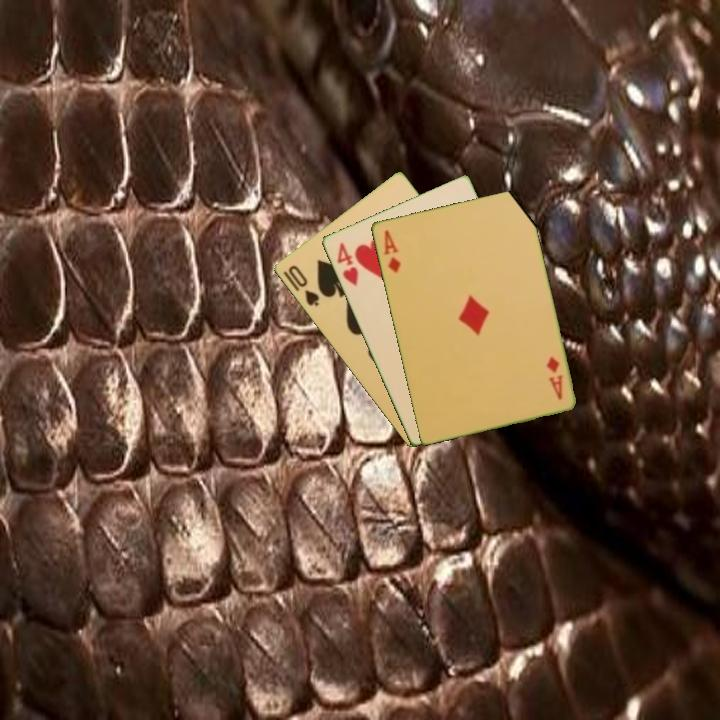10s: (284, 261, 322, 309)
4h: (333, 238, 361, 289)
Ad: (542, 352, 566, 403), (379, 226, 403, 276)
